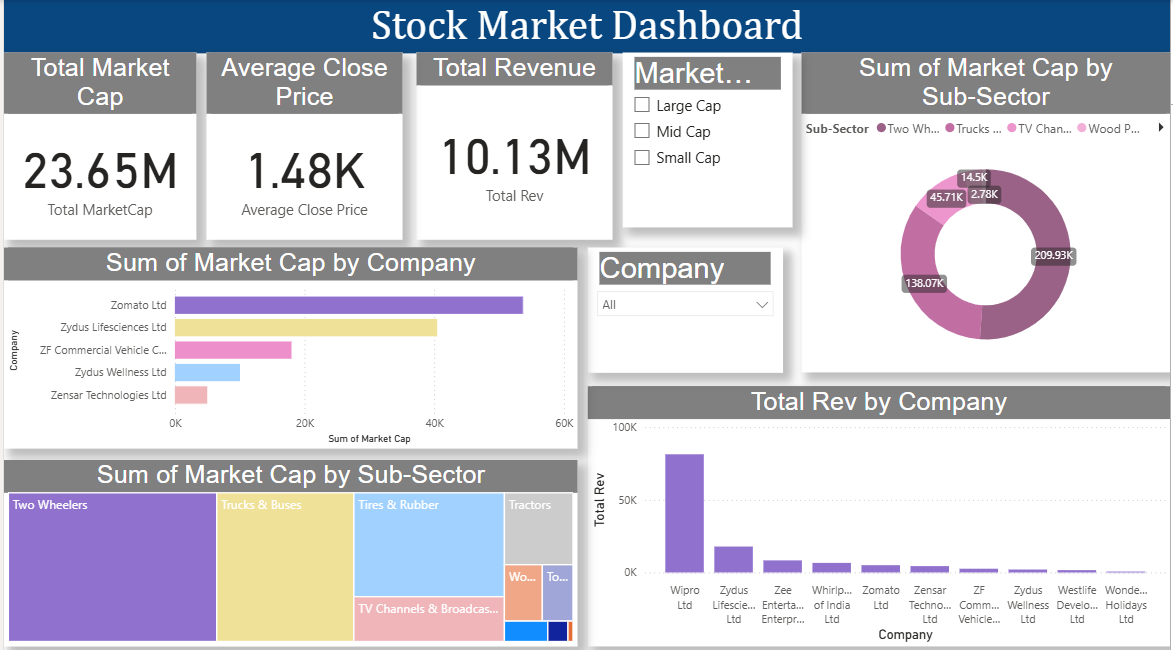

The page's visual inventory and layout, read from the dashboard file:
{"tool":"powerbi","page":{"name":"Page 6","canvas":[1280,720],"ordinal":5},"visuals":[{"type":"textbox","title":"Stock Market Dashboard","box":[0,0,1280.3,68.6],"z":0},{"type":"card","title":"Total Market Cap","fields":{"Values":["Stock_Market.Total MarketCap"]},"box":[0,57.6,211.3,205.8],"z":1000},{"type":"card","title":"Total Revenue","fields":{"Values":["Stock_Market.Total Rev"]},"box":[452.8,57.6,215.4,205.8],"z":2000},{"type":"card","title":"Average Close Price","fields":{"Values":["Stock_Market.Average Close Price"]},"box":[222.3,57.6,215.4,205.8],"z":3000},{"type":"clusteredColumnChart","fields":{"Category":["Stock_Market.Company"],"Y":["Stock_Market.Total Rev"]},"box":[640.8,424,639.5,285.4],"z":4000},{"type":"donutChart","fields":{"Y":["Sum(Stock_Market.Market Cap)"],"Category":["Stock_Market.Sub-Sector"]},"box":[875.5,57.6,404.8,351.3],"z":5000},{"type":"slicer","fields":{"Values":["Stock_Market.Company"]},"box":[640.8,271.7,214.1,137.2],"z":6000},{"type":"slicer","fields":{"Values":["Stock_Market.MarketCap_Category"]},"box":[679.2,57.6,186.6,192.1],"z":7000},{"type":"barChart","fields":{"Category":["Stock_Market.Company"],"Y":["Sum(Stock_Market.Market Cap)"]},"box":[0,271.7,629.8,220.9],"z":8000},{"type":"treemap","fields":{"Group":["Stock_Market.Sub-Sector"],"Values":["Sum(Stock_Market.Market Cap)"]},"box":[0,505,629.8,204.5],"z":9000}]}

Visuals, with their boxes in screenshot pixels (x1, y1, x2, y2), scaled from the page's 1280x720 canvas onto the 1173x650 screenshot:
"Stock Market Dashboard" textbox: pyautogui.locateOnScreen(0, 0, 1172, 62)
"Total Market Cap" card: pyautogui.locateOnScreen(0, 52, 194, 238)
"Total Revenue" card: pyautogui.locateOnScreen(415, 52, 612, 238)
"Average Close Price" card: pyautogui.locateOnScreen(204, 52, 401, 238)
clusteredColumnChart - Stock_Market.Company x Stock_Market.Total Rev: pyautogui.locateOnScreen(587, 383, 1172, 640)
donutChart - Sum(Stock_Market.Market Cap) x Stock_Market.Sub-Sector: pyautogui.locateOnScreen(802, 52, 1172, 369)
slicer - Stock_Market.Company: pyautogui.locateOnScreen(587, 245, 783, 369)
slicer - Stock_Market.MarketCap_Category: pyautogui.locateOnScreen(622, 52, 793, 225)
barChart - Stock_Market.Company x Sum(Stock_Market.Market Cap): pyautogui.locateOnScreen(0, 245, 577, 445)
treemap - Stock_Market.Sub-Sector x Sum(Stock_Market.Market Cap): pyautogui.locateOnScreen(0, 456, 577, 641)
